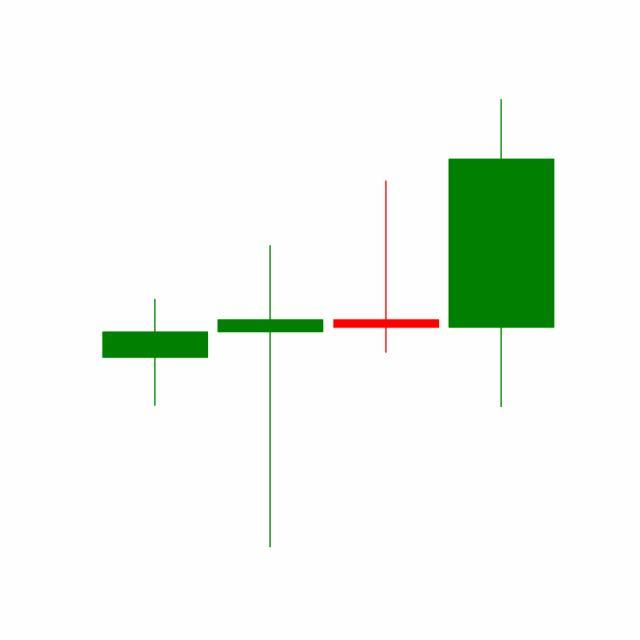Gravestone Doji: (329, 178, 445, 356)
